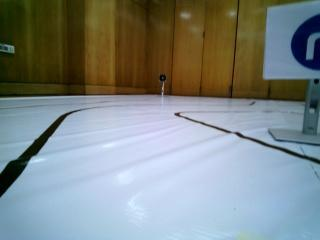right: (268, 9, 320, 77)
